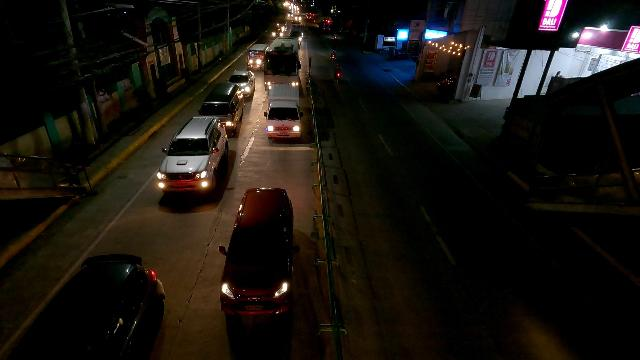bus: (264, 36, 301, 90)
car: (219, 187, 299, 333), (156, 115, 228, 192), (229, 70, 255, 99)
jeepney: (247, 43, 268, 69)
motorcycle: (330, 49, 337, 61), (332, 31, 339, 41)
van: (199, 82, 245, 136), (264, 84, 304, 138)
